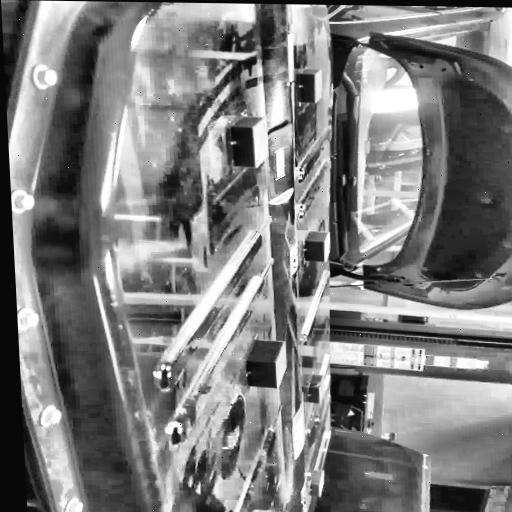b_casing: (0, 0, 438, 512)
nut: (28, 62, 57, 90), (36, 406, 63, 428), (16, 309, 40, 332), (10, 191, 34, 214), (58, 496, 85, 512)
